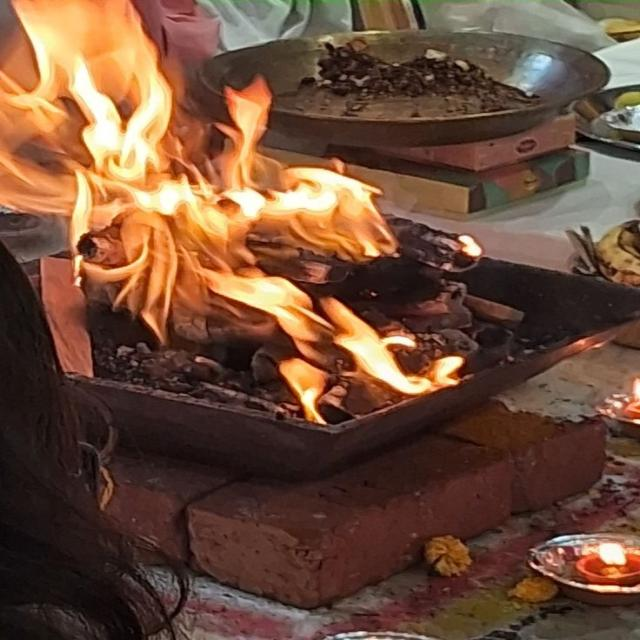fire: (0, 0, 464, 424)
